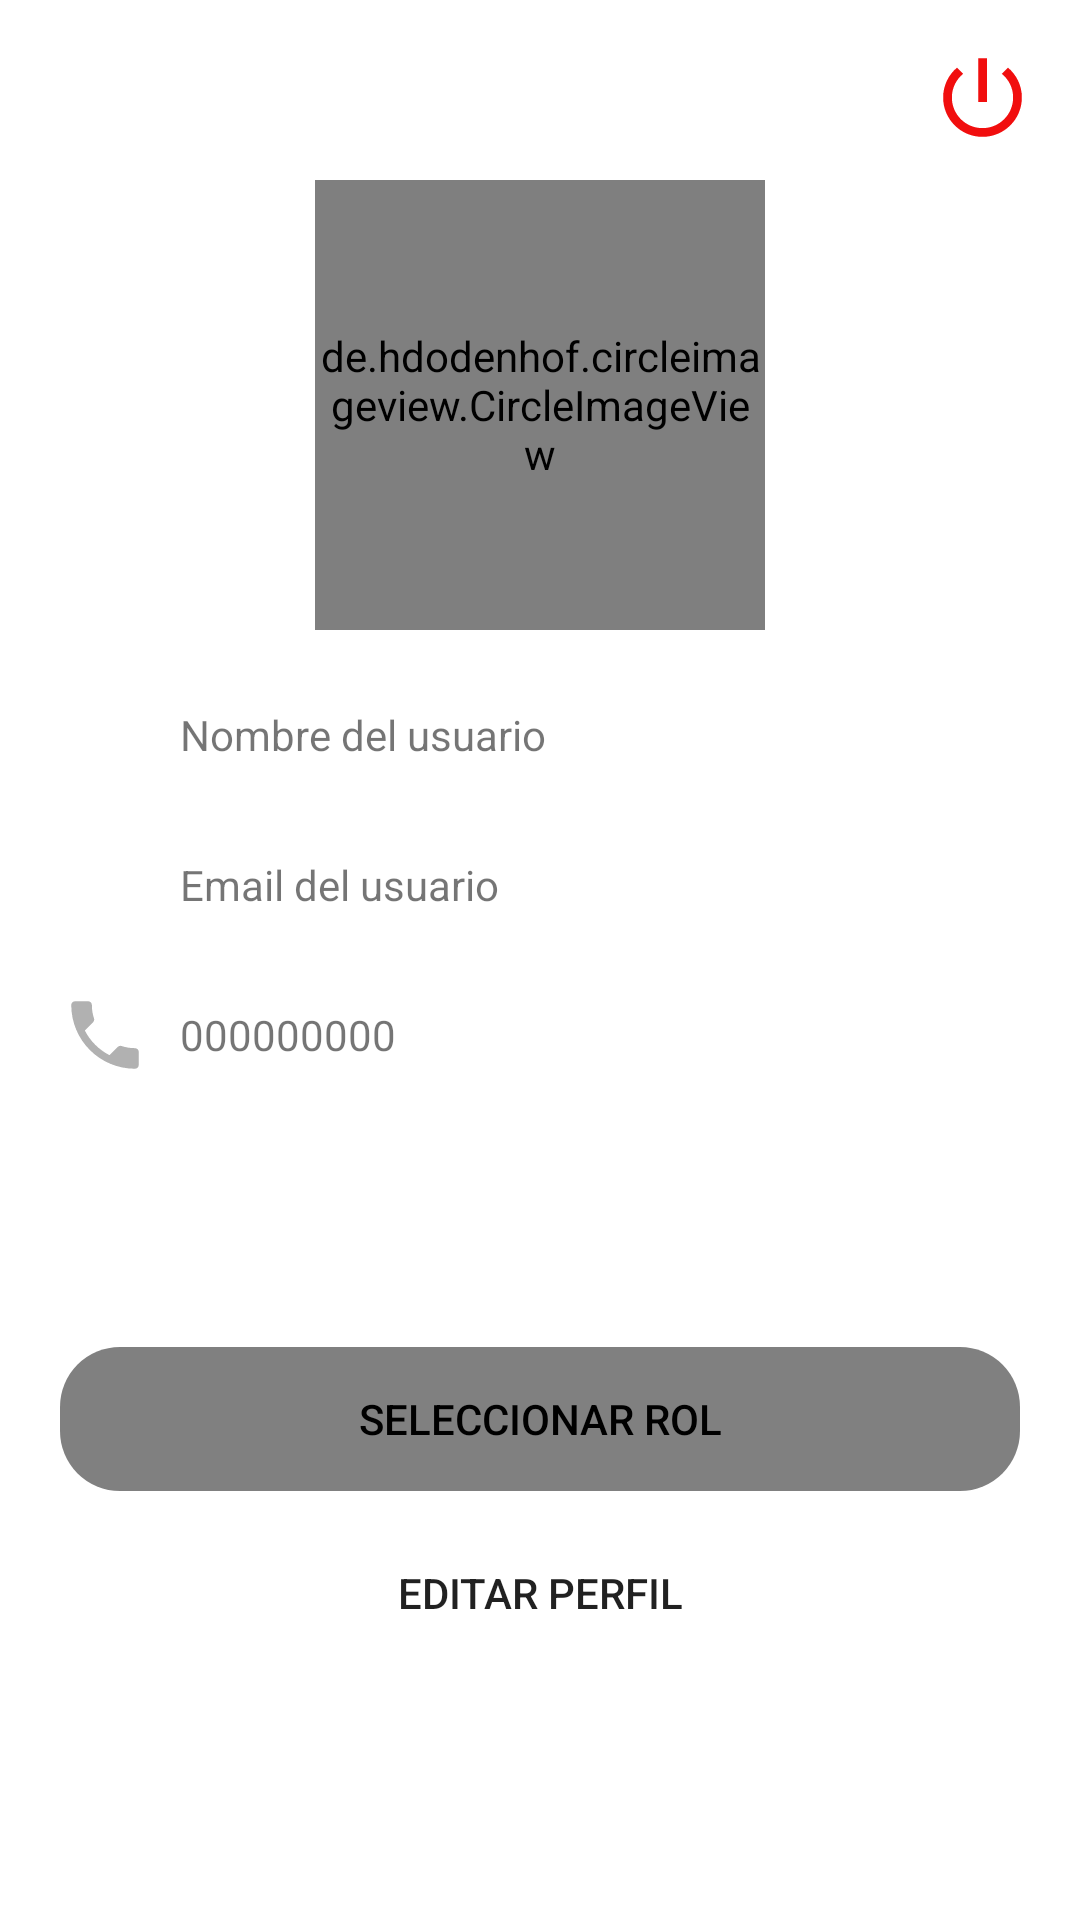

Point at icon controls on the screen. Image size 1080px x 1920px, points as (x=x, y=y).
phone: (x=105, y=1035)
power: (x=982, y=97)
